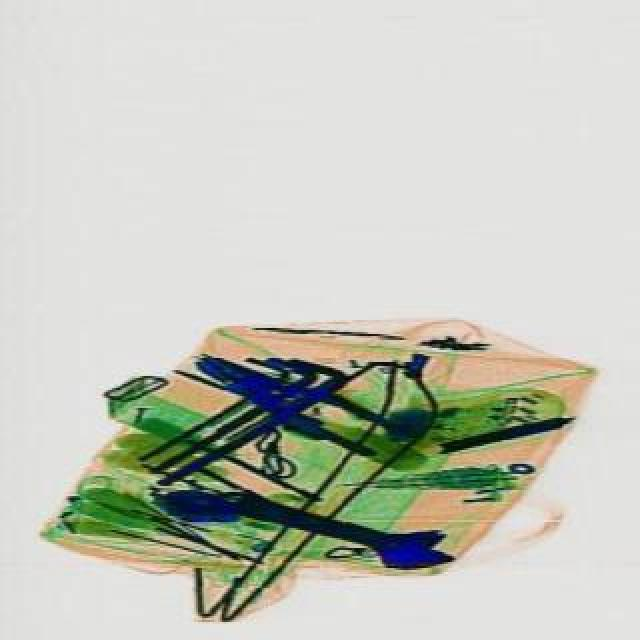scissors: (200, 470, 462, 590)
wrench: (186, 338, 396, 466)
